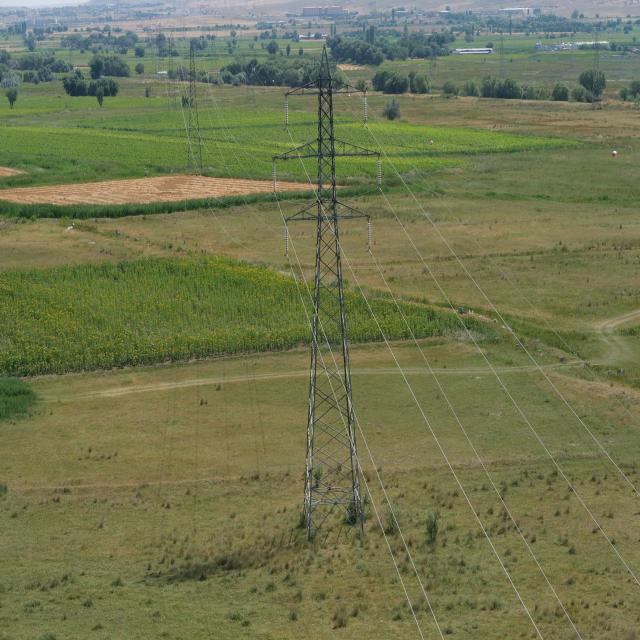direk: (288, 46, 369, 532), (182, 39, 206, 173)
tree: (378, 69, 430, 95), (228, 65, 284, 88), (332, 37, 378, 65), (67, 76, 109, 102), (382, 40, 432, 60), (483, 78, 521, 101), (580, 71, 605, 102), (92, 59, 129, 79), (288, 59, 320, 82), (19, 56, 48, 68)
